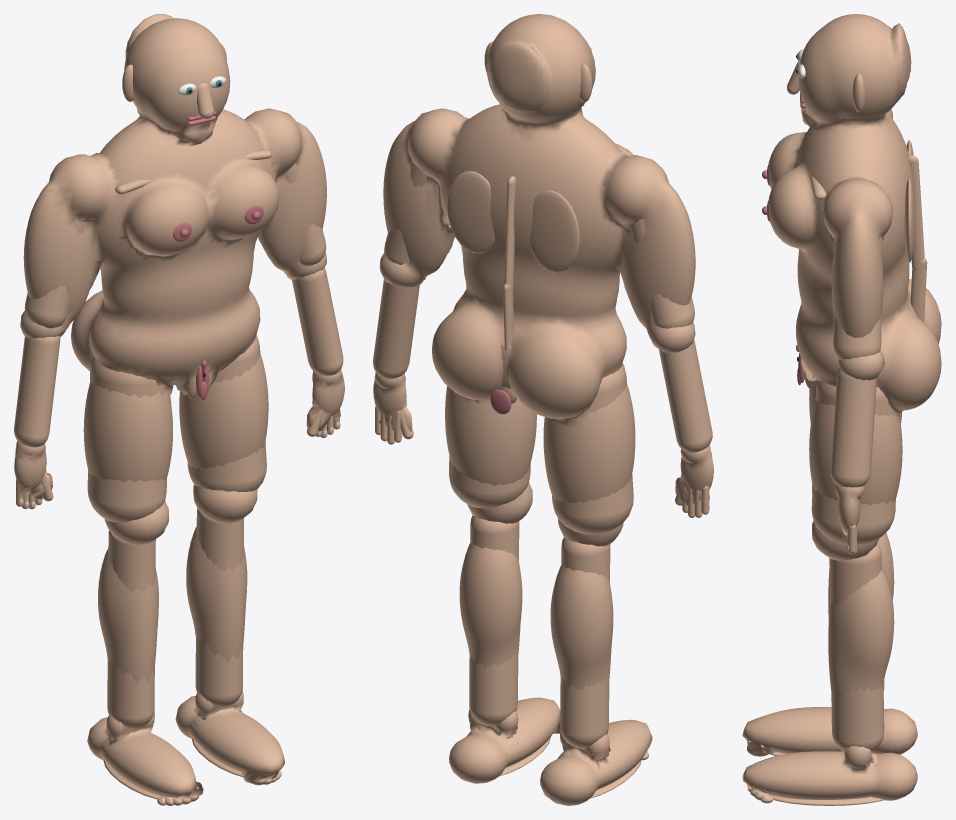
Rendered from body-jugendlicher-weiblich-v2.glb.
3 views of the same model, side by side, from view 1: azimuth 30°, elevation 25°; view 2: azimuth 150°, elevation 25°; view 3: azimuth 270°, elevation 25° (orthographic). The views are drawn at different scales.
Parts seen in each view (by area): view 1: zone__visual-surface-body-jugendlicher-weiblich, zone__surface-lower-leg-left, zone__surface-lower-leg-right, zone__surface-thigh-left, zone__surface-forearm-left, zone__surface-forearm-right, zone__surface-thigh-right, zone__surface-upper-arm-left, zone__surface-upper-arm-right; view 2: zone__visual-surface-body-jugendlicher-weiblich, zone__surface-lower-leg-right, zone__surface-lower-leg-left, zone__surface-forearm-left, zone__surface-thigh-left, zone__surface-forearm-right, zone__surface-scapula-left, zone__surface-scapula-right, zone__surface-thigh-right, zone__surface-upper-arm-left, zone__surface-thoracic-spine, zone__surface-upper-arm-right (+2 smaller); view 3: zone__visual-surface-body-jugendlicher-weiblich, zone__surface-lower-leg-right, zone__surface-forearm-right, zone__surface-thigh-right, zone__surface-upper-arm-right, zone__surface-thoracic-spine, zone__surface-lumbar-spine, zone__surface-scapula-right, zone__surface-sole-right, zone__surface-ear-right.
Part boxes in pixels (x1,y1,x2,y2): zone__visual-surface-body-jugendlicher-weiblich: (14, 14, 344, 799); zone__surface-lower-leg-left: (107, 530, 155, 729); zone__surface-lower-leg-right: (195, 508, 243, 707); zone__surface-thigh-left: (87, 356, 167, 522); zone__surface-forearm-left: (14, 336, 60, 447); zone__surface-forearm-right: (292, 267, 343, 375); zone__surface-thigh-right: (187, 335, 266, 492); zone__surface-upper-arm-left: (24, 219, 86, 328); zone__surface-upper-arm-right: (283, 163, 326, 265); zone__visual-surface-body-jugendlicher-weiblich: (373, 14, 713, 805); zone__surface-lower-leg-right: (469, 515, 519, 726); zone__surface-lower-leg-left: (560, 537, 610, 748); zone__surface-forearm-left: (659, 339, 712, 452); zone__surface-thigh-left: (552, 363, 633, 534); zone__surface-forearm-right: (373, 279, 419, 378); zone__surface-scapula-left: (530, 190, 579, 272); zone__surface-scapula-right: (447, 171, 494, 253); zone__surface-thigh-right: (449, 456, 530, 508); zone__surface-upper-arm-left: (629, 219, 694, 328); zone__surface-thoracic-spine: (504, 176, 516, 292); zone__surface-upper-arm-right: (384, 162, 427, 264); zone__visual-surface-body-jugendlicher-weiblich: (742, 14, 941, 800); zone__surface-lower-leg-right: (829, 543, 884, 751); zone__surface-forearm-right: (830, 368, 876, 487); zone__surface-thigh-right: (811, 380, 897, 544); zone__surface-upper-arm-right: (833, 236, 881, 359); zone__surface-thoracic-spine: (908, 155, 924, 269); zone__surface-lumbar-spine: (910, 258, 927, 322); zone__surface-scapula-right: (904, 178, 914, 263); zone__surface-sole-right: (770, 794, 883, 805); zone__surface-ear-right: (852, 73, 865, 112).
Bounding box in the file's own units: 0.7776 × 1.66 × 0.3964.
